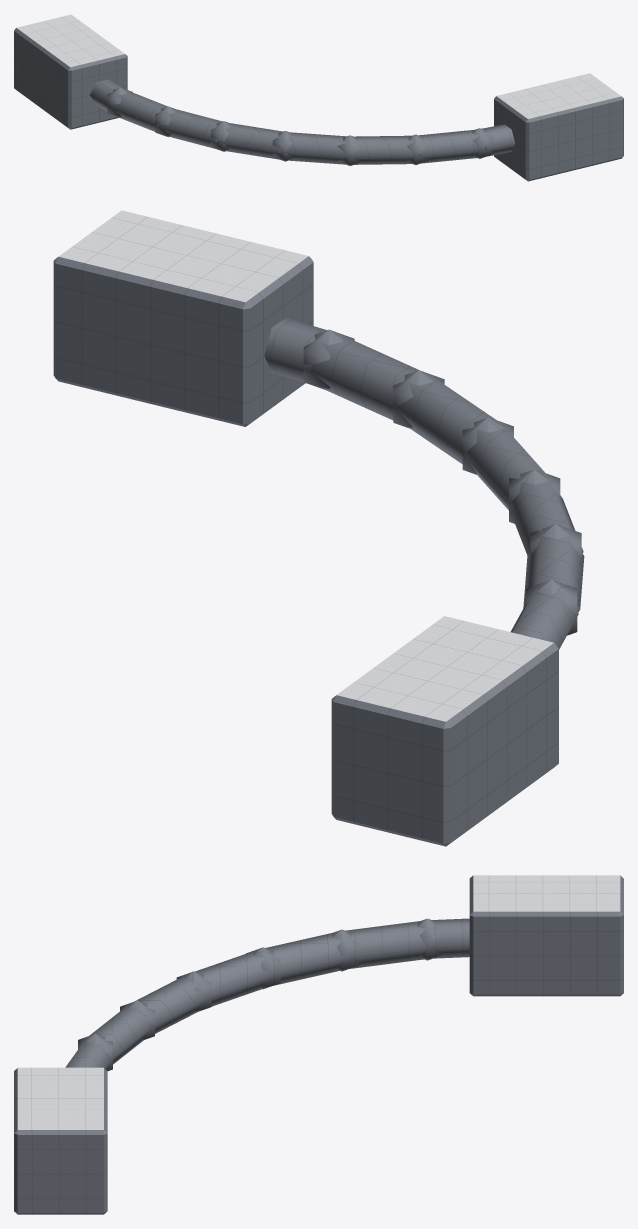
The model's file is R4C_ROD_ARC_LONG_LOD1.glb.
The picture shows the model from 3 angles, top to bottom: view 1: azimuth 30°, elevation 25°; view 2: azimuth 150°, elevation 25°; view 3: azimuth 270°, elevation 25°; orthographic projection. The views are drawn at different scales.
Parts seen in each view (by area): view 1: R4C_ROD_ARC_LONG_LOD1; view 2: R4C_ROD_ARC_LONG_LOD1; view 3: R4C_ROD_ARC_LONG_LOD1.
Boxes of the visible parts, left/top/right/bottom form: R4C_ROD_ARC_LONG_LOD1: left=14, top=14, right=623, bottom=181; R4C_ROD_ARC_LONG_LOD1: left=53, top=210, right=584, bottom=846; R4C_ROD_ARC_LONG_LOD1: left=14, top=875, right=623, bottom=1214.
Size of the model in its own units: 1.47 by 0.226 by 1.47.
Materials: 2 (2 with a texture image).
